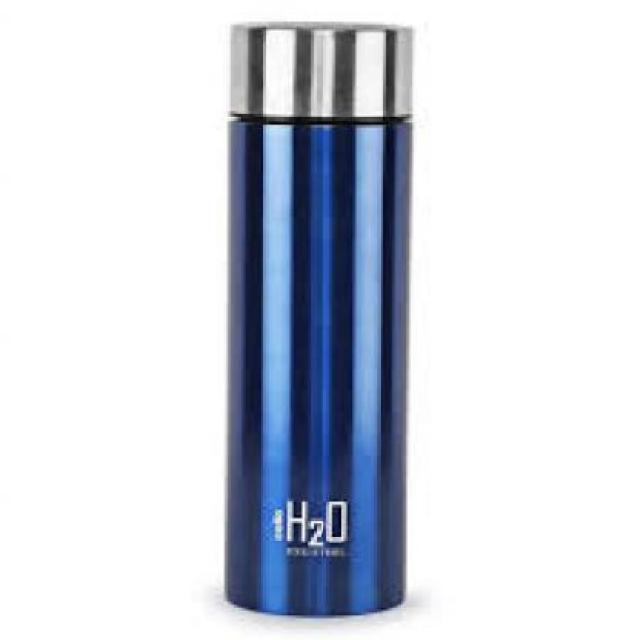Drinking: (206, 8, 443, 629)
